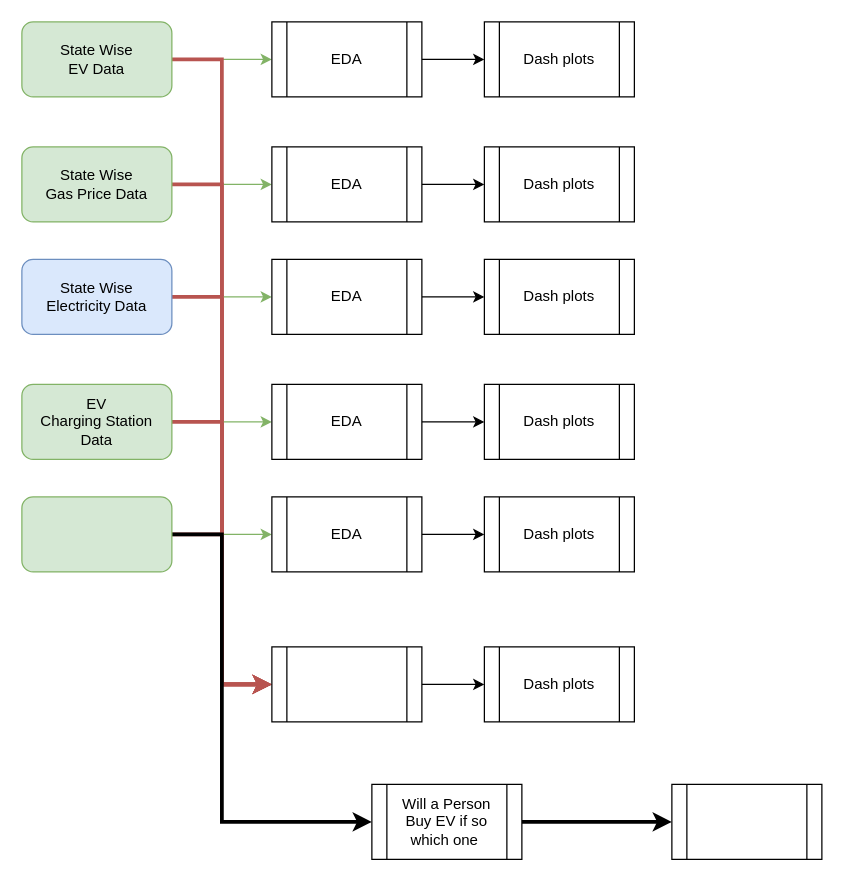
This 844x881 diagram has some shape labels left out. Here are the shapes that lost their labels. From the top down, the box of each, then its label:
(21, 496, 172, 572): EV Spec Data
(271, 646, 422, 722): Group insights
(671, 783, 822, 859): Display Results
